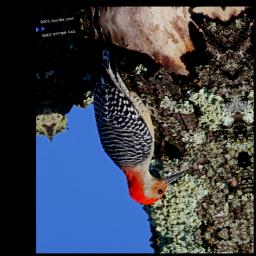Woodpecker: (82, 25, 189, 212)
